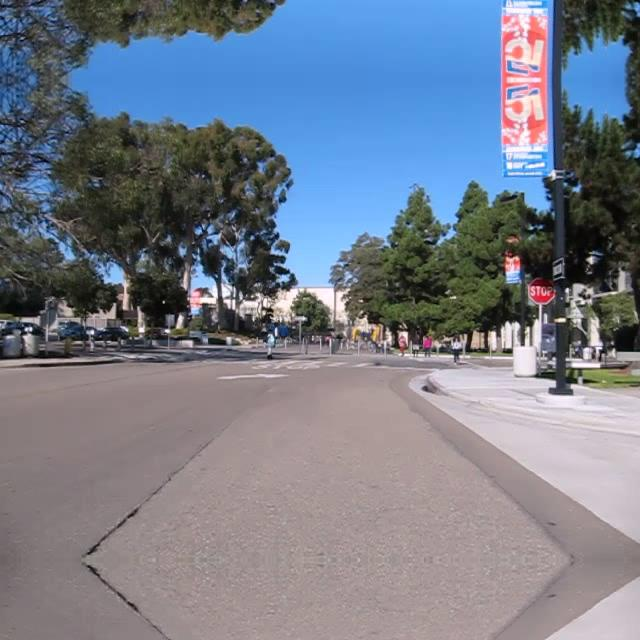stop: (526, 276, 556, 304)
